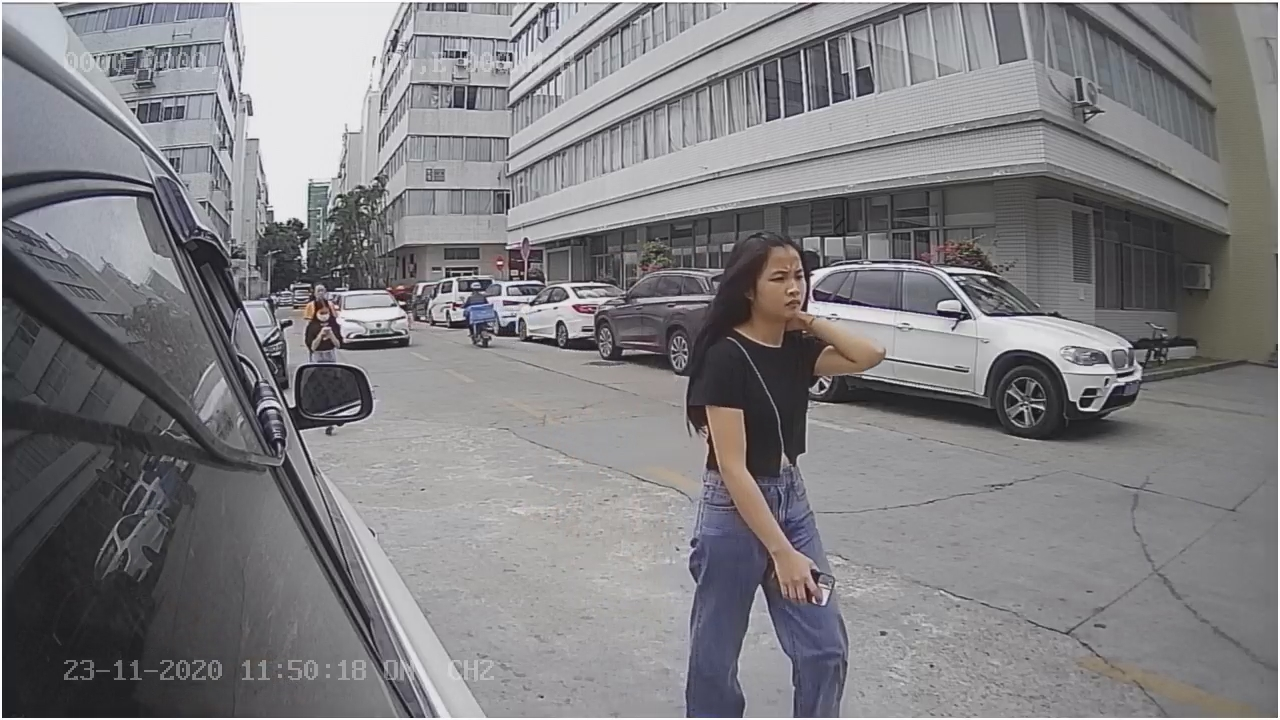person: (677, 230, 881, 601)
